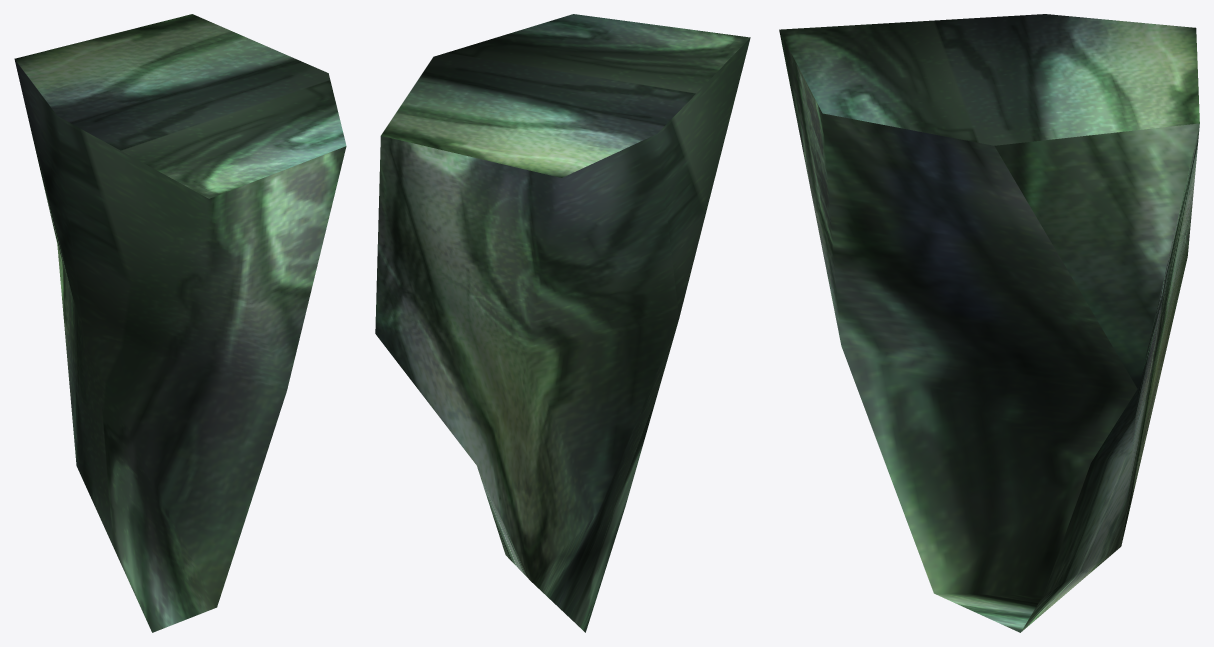
File: a_SWFswall01g.glb
3 views of the same model, side by side, from view 1: azimuth 30°, elevation 25°; view 2: azimuth 150°, elevation 25°; view 3: azimuth 270°, elevation 25° (orthographic). The views are drawn at different scales.
Parts seen in each view (by area): view 1: a_SWFswall01g; view 2: a_SWFswall01g; view 3: a_SWFswall01g.
Part boxes in pixels (x1,y1,x2,y2): a_SWFswall01g: (14,14,346,632); a_SWFswall01g: (375,14,750,632); a_SWFswall01g: (779,14,1199,632).
Size of the model in its own units: 1.38 by 2.81 by 1.86.
1 material, 1 textured.
